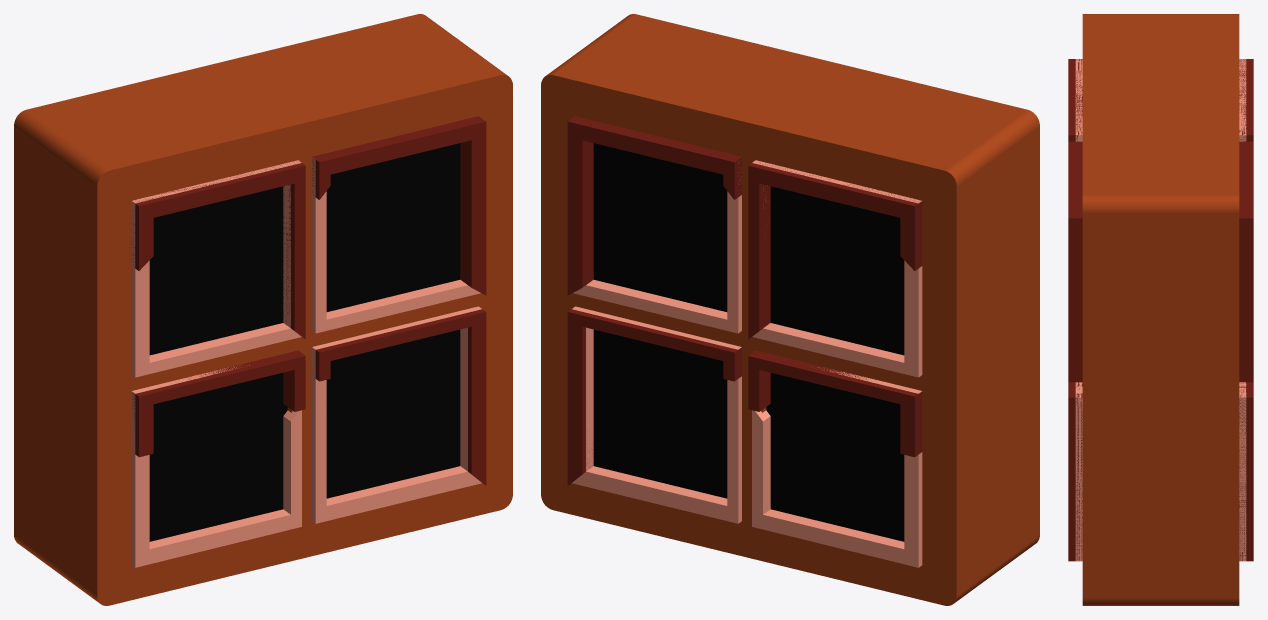
3 views of the same model, side by side, from view 1: azimuth 30°, elevation 25°; view 2: azimuth 150°, elevation 25°; view 3: azimuth 270°, elevation 25° (orthographic). The views are drawn at different scales.
Parts seen in each view (by area): view 1: U+1FA9F_layer01_obj00, U+1FA9F_layer00_obj03, U+1FA9F_layer00_obj06, U+1FA9F_layer00_obj00, U+1FA9F_layer03_obj00, U+1FA9F_layer02_obj02, U+1FA9F_layer02_obj00, U+1FA9F_layer00_obj04, U+1FA9F_layer02_obj01, U+1FA9F_layer03_obj01, U+1FA9F_layer03_obj03, U+1FA9F_layer02_obj03 (+1 smaller); view 2: U+1FA9F_layer01_obj00, U+1FA9F_layer00_obj03, U+1FA9F_layer00_obj04, U+1FA9F_layer00_obj00, U+1FA9F_layer00_obj06, U+1FA9F_layer03_obj00, U+1FA9F_layer03_obj01, U+1FA9F_layer02_obj02, U+1FA9F_layer02_obj00, U+1FA9F_layer03_obj03, U+1FA9F_layer02_obj01, U+1FA9F_layer03_obj02 (+1 smaller); view 3: U+1FA9F_layer01_obj00, U+1FA9F_layer03_obj00, U+1FA9F_layer03_obj03, U+1FA9F_layer02_obj00, U+1FA9F_layer03_obj01, U+1FA9F_layer02_obj01.
Part boxes in pixels (bbox=[...]): U+1FA9F_layer01_obj00: bbox=[14, 14, 512, 605]; U+1FA9F_layer00_obj03: bbox=[149, 143, 460, 535]; U+1FA9F_layer00_obj06: bbox=[149, 151, 428, 541]; U+1FA9F_layer00_obj00: bbox=[149, 159, 393, 460]; U+1FA9F_layer03_obj00: bbox=[312, 116, 486, 295]; U+1FA9F_layer02_obj02: bbox=[131, 365, 301, 567]; U+1FA9F_layer02_obj00: bbox=[312, 306, 481, 523]; U+1FA9F_layer00_obj04: bbox=[187, 144, 458, 531]; U+1FA9F_layer02_obj01: bbox=[131, 160, 301, 377]; U+1FA9F_layer03_obj01: bbox=[131, 161, 305, 339]; U+1FA9F_layer03_obj03: bbox=[315, 309, 486, 485]; U+1FA9F_layer02_obj03: bbox=[312, 157, 480, 333]; U+1FA9F_layer01_obj00: bbox=[541, 14, 1039, 605]; U+1FA9F_layer00_obj03: bbox=[593, 143, 904, 535]; U+1FA9F_layer00_obj04: bbox=[593, 143, 867, 532]; U+1FA9F_layer00_obj00: bbox=[660, 159, 904, 460]; U+1FA9F_layer00_obj06: bbox=[631, 152, 904, 541]; U+1FA9F_layer03_obj00: bbox=[567, 116, 741, 295]; U+1FA9F_layer03_obj01: bbox=[748, 161, 922, 339]; U+1FA9F_layer02_obj02: bbox=[752, 367, 922, 567]; U+1FA9F_layer02_obj00: bbox=[572, 306, 741, 523]; U+1FA9F_layer03_obj03: bbox=[567, 309, 741, 485]; U+1FA9F_layer02_obj01: bbox=[752, 160, 922, 377]; U+1FA9F_layer03_obj02: bbox=[748, 350, 922, 457]; U+1FA9F_layer01_obj00: bbox=[1082, 14, 1239, 605]; U+1FA9F_layer03_obj00: bbox=[1068, 141, 1253, 382]; U+1FA9F_layer03_obj03: bbox=[1068, 382, 1253, 561]; U+1FA9F_layer02_obj00: bbox=[1075, 382, 1246, 561]; U+1FA9F_layer03_obj01: bbox=[1068, 59, 1253, 141]; U+1FA9F_layer02_obj01: bbox=[1075, 59, 1246, 141].
Size of the model in its own units: 0.3175 by 0.3174 by 0.13.
